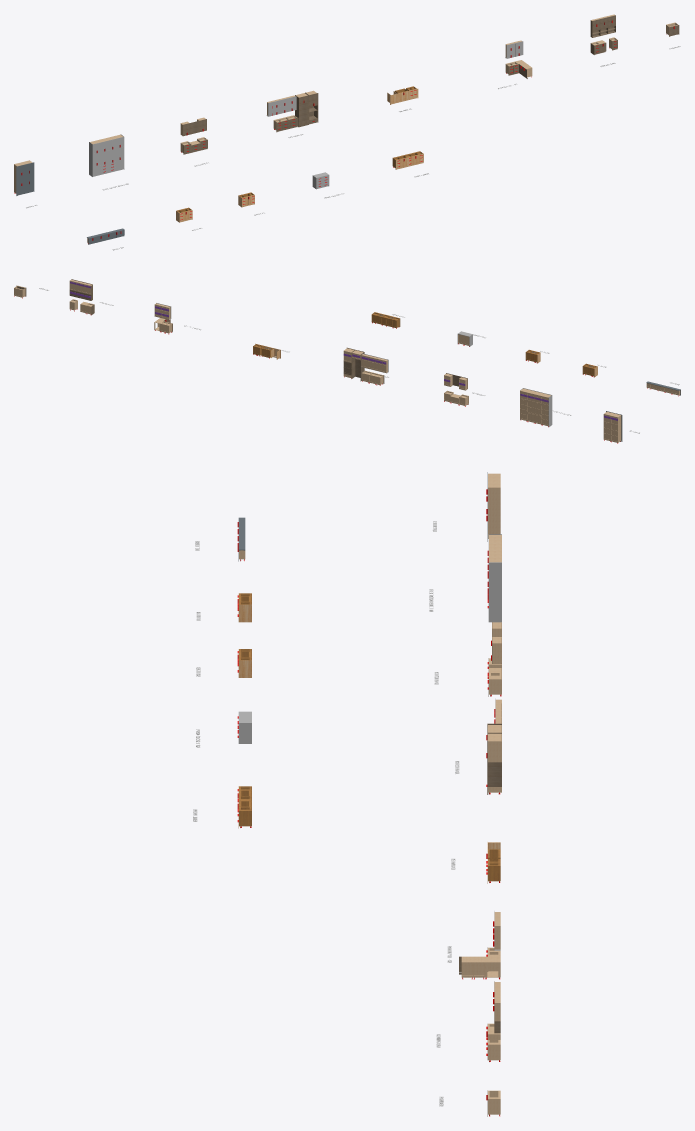
File: 517 BOULDIN B3.glb
The picture shows the model from 3 angles, top to bottom: view 1: azimuth 30°, elevation 25°; view 2: azimuth 150°, elevation 25°; view 3: azimuth 270°, elevation 25°; orthographic projection. The views are drawn at different scales.
Visible parts, largest first — view 1: _(Loose Enxtity); view 2: _(Loose Enxtity); view 3: _(Loose Enxtity).
Boxes of the visible parts, bbox=[...] form: _(Loose Enxtity): bbox=[17, 15, 680, 250]; _(Loose Enxtity): bbox=[16, 279, 680, 441]; _(Loose Enxtity): bbox=[193, 473, 495, 1116].
Bounding box in the file's own units: 64.94 × 3.05 × 14.24.
Materials: 11 (5 with a texture image).
